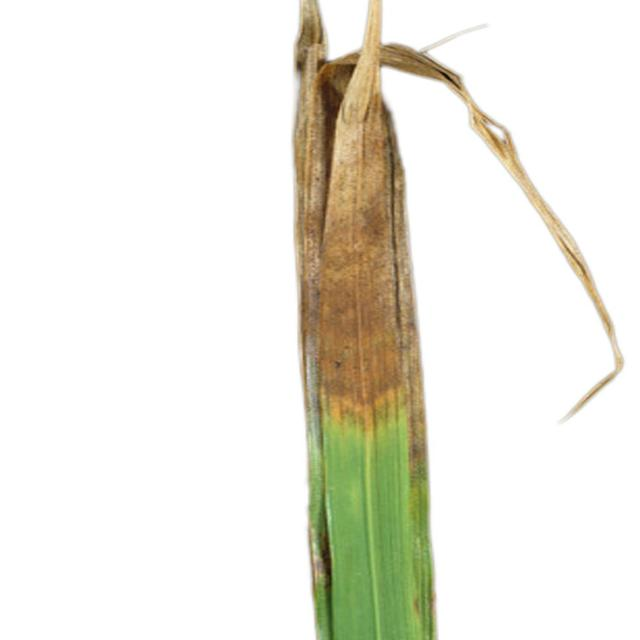Leaf scald: (135, 0, 630, 640)
